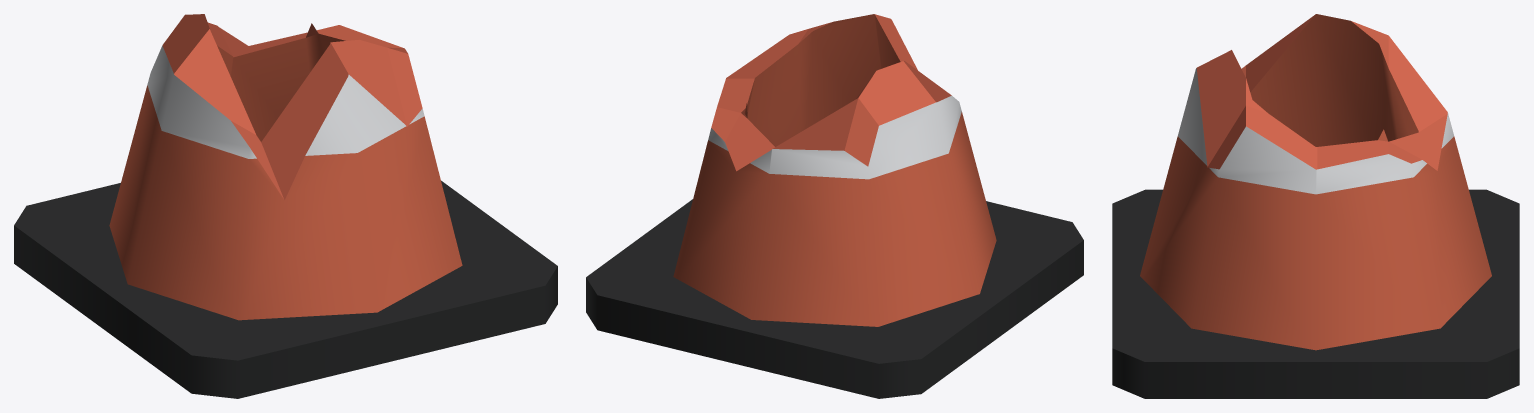
File: Broken_Traffic_Cone_002.glb
The picture shows the model from 3 angles, left to right: view 1: azimuth 30°, elevation 25°; view 2: azimuth 150°, elevation 25°; view 3: azimuth 270°, elevation 25°; orthographic projection. The views are drawn at different scales.
Visible parts, largest first — view 1: Broken Traffic Cone.002; view 2: Broken Traffic Cone.002; view 3: Broken Traffic Cone.002.
Boxes of the visible parts, box(x1,y1,x2,y2) form: Broken Traffic Cone.002: box(14, 14, 557, 398); Broken Traffic Cone.002: box(586, 14, 1083, 398); Broken Traffic Cone.002: box(1112, 14, 1519, 398).
Size of the model in its own units: 2 by 1.43 by 2.
1 material, 1 textured.
